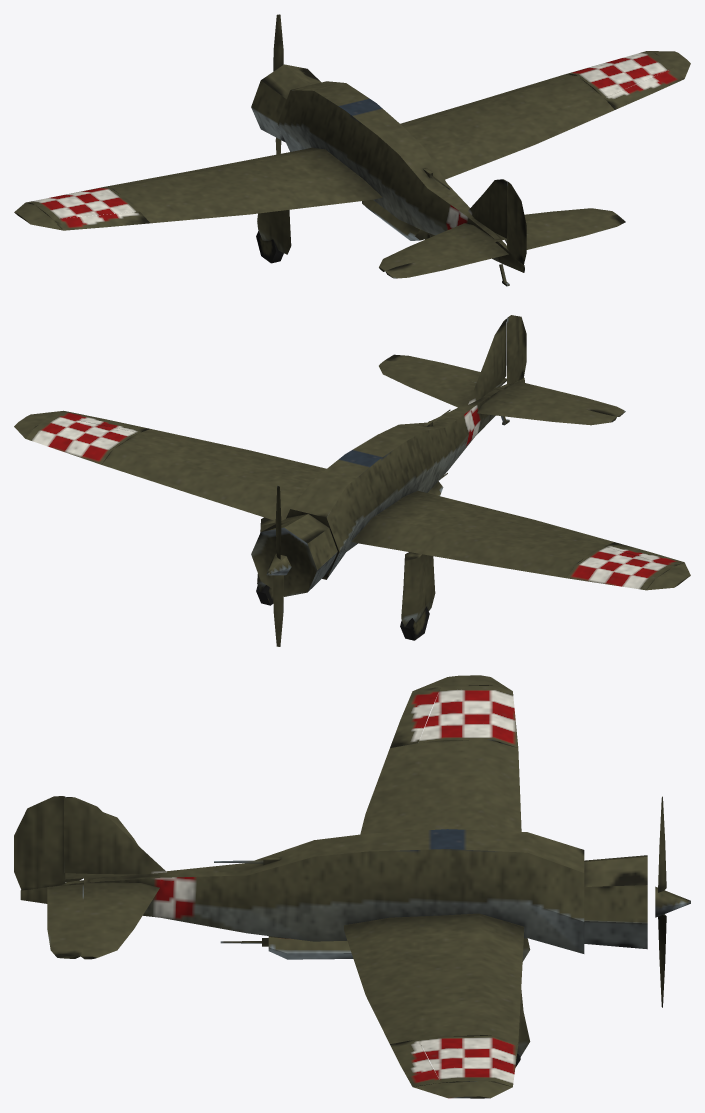
File: PZL23B_LOW.fbx
The picture shows the model from 3 angles, top to bottom: view 1: azimuth 30°, elevation 25°; view 2: azimuth 150°, elevation 25°; view 3: azimuth 270°, elevation 25°; orthographic projection. The views are drawn at different scales.
Visible parts, largest first — view 1: Chassis, Elevator_G, Elevator_D, Rudder, Aileron_D, Aileron_G, Helice_LS_1, Roue_Avant; view 2: Chassis, Elevator_G, Rudder, Elevator_D, Helice_LS_1, Roue_Avant, Aileron_D, Aileron_G; view 3: Chassis, Rudder, Elevator_D, Aileron_G, Aileron_D, Helice_LS_1.
Boxes of the visible parts, x1,y1,x2,y2 form: Chassis: (14,51,690,272); Elevator_G: (385,242,508,278); Elevator_D: (505,214,625,249); Rudder: (507,181,526,264); Aileron_D: (604,68,683,109); Aileron_G: (53,211,149,230); Helice_LS_1: (273,14,283,154); Roue_Avant: (256,231,283,263); Chassis: (14,318,690,627); Elevator_G: (505,381,625,416); Rudder: (507,315,526,384); Elevator_D: (385,354,506,387); Helice_LS_1: (273,485,283,646); Roue_Avant: (256,585,429,640); Aileron_D: (53,411,149,432); Aileron_G: (604,542,683,566); Chassis: (20,675,647,1098); Rudder: (14,796,65,890); Elevator_D: (47,884,83,958); Aileron_G: (390,687,440,747); Aileron_D: (390,1039,440,1086); Helice_LS_1: (658,796,666,1007).
Size of the model in its own units: 1394 by 947 by 363.
1 material, 1 textured.
